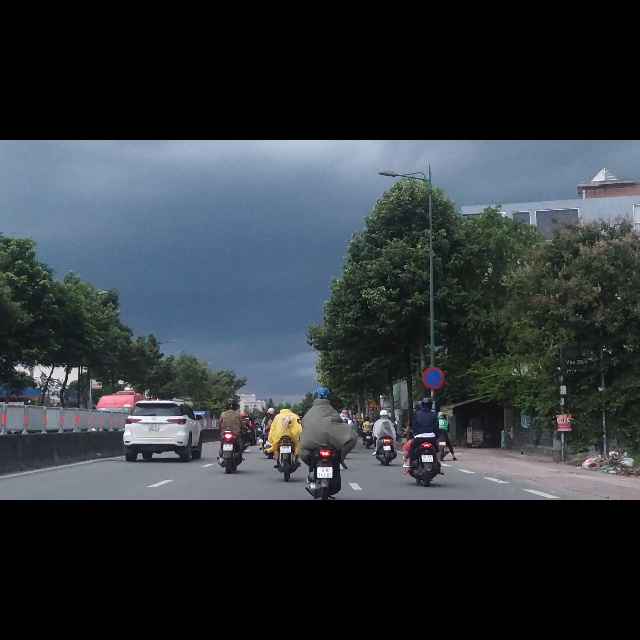bien_cam: (422, 404, 445, 443), (368, 461, 378, 476)
